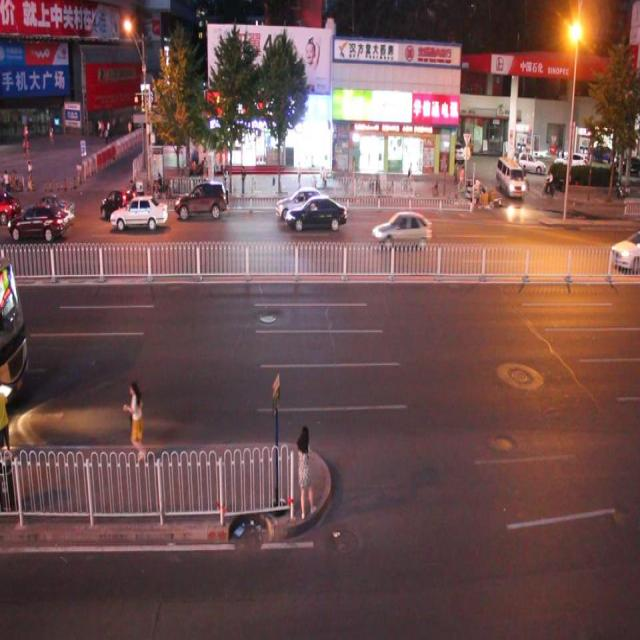car: (1, 202, 66, 244), (371, 207, 433, 248), (284, 194, 346, 231), (110, 191, 168, 230), (275, 185, 330, 226), (174, 180, 228, 218), (21, 191, 76, 227), (101, 180, 145, 223), (608, 225, 640, 273)
